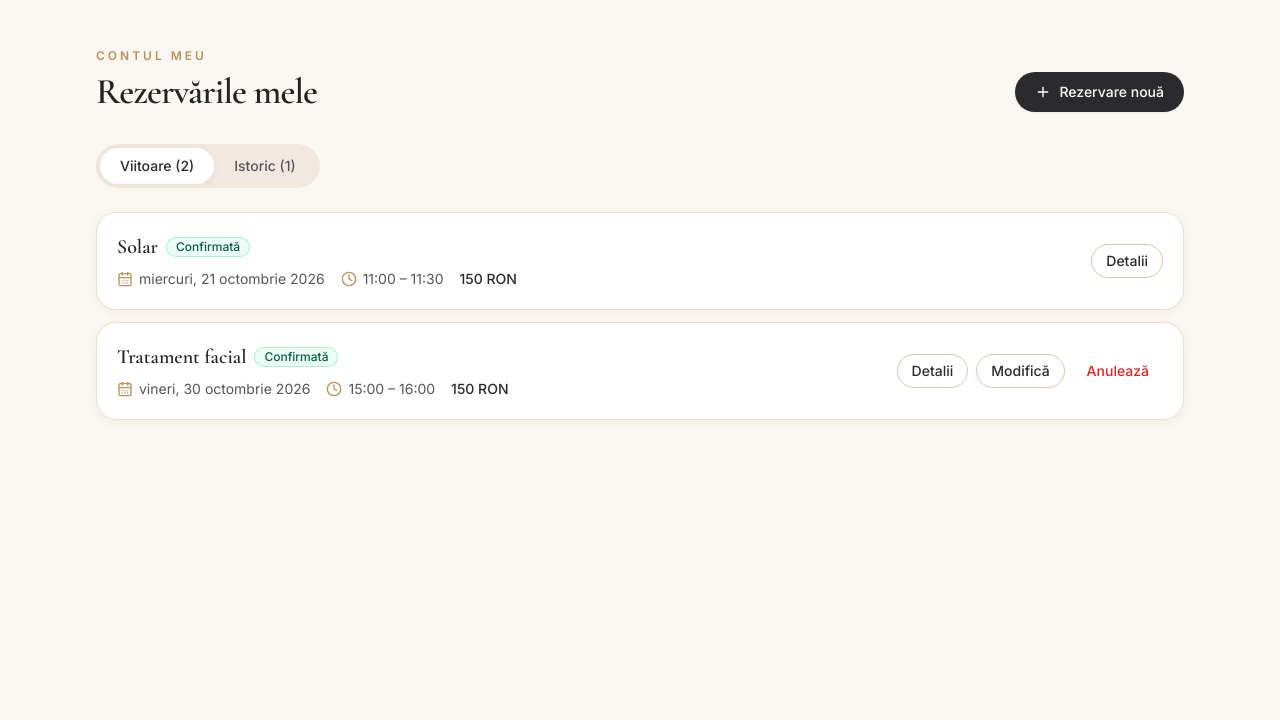
My reservations – cancellation › does nothing when the user chooses "Renunță"
Click the button "Anulează" at (1118, 371), box x1=1073 y1=354 x2=1163 y2=388
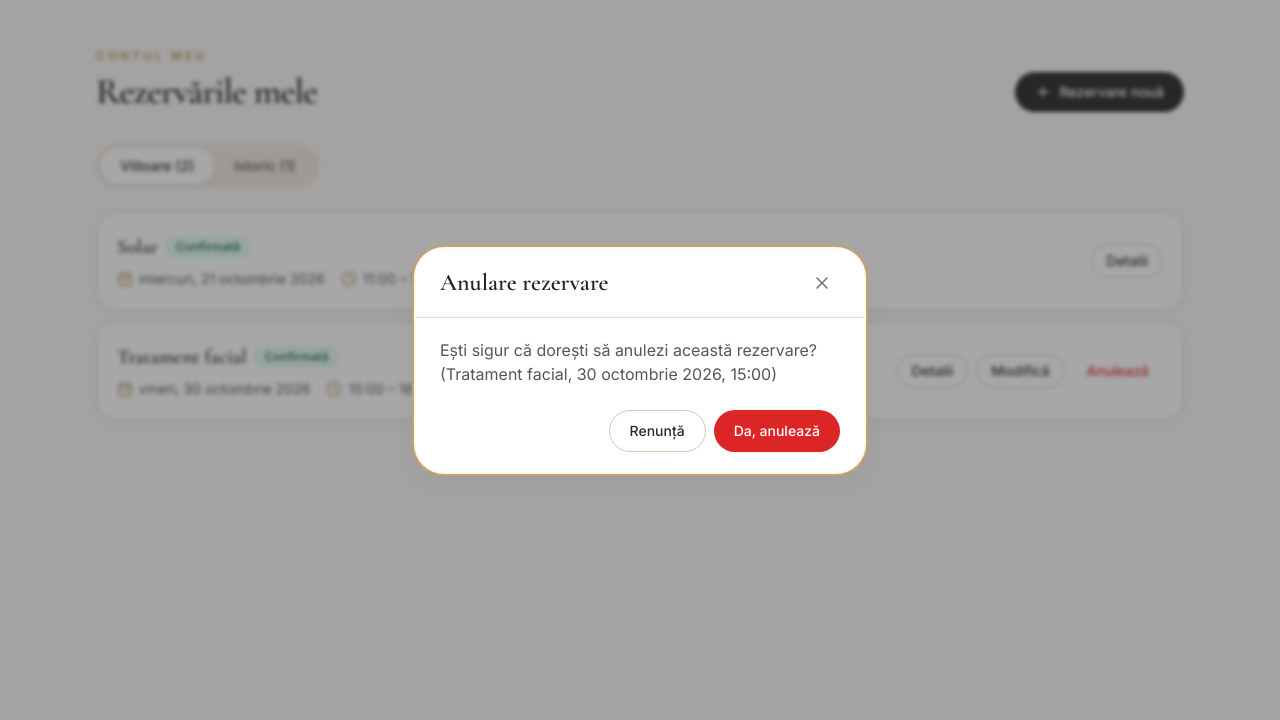
Click the button "Renunță" at (657, 430), box x1=609 y1=410 x2=706 y2=452
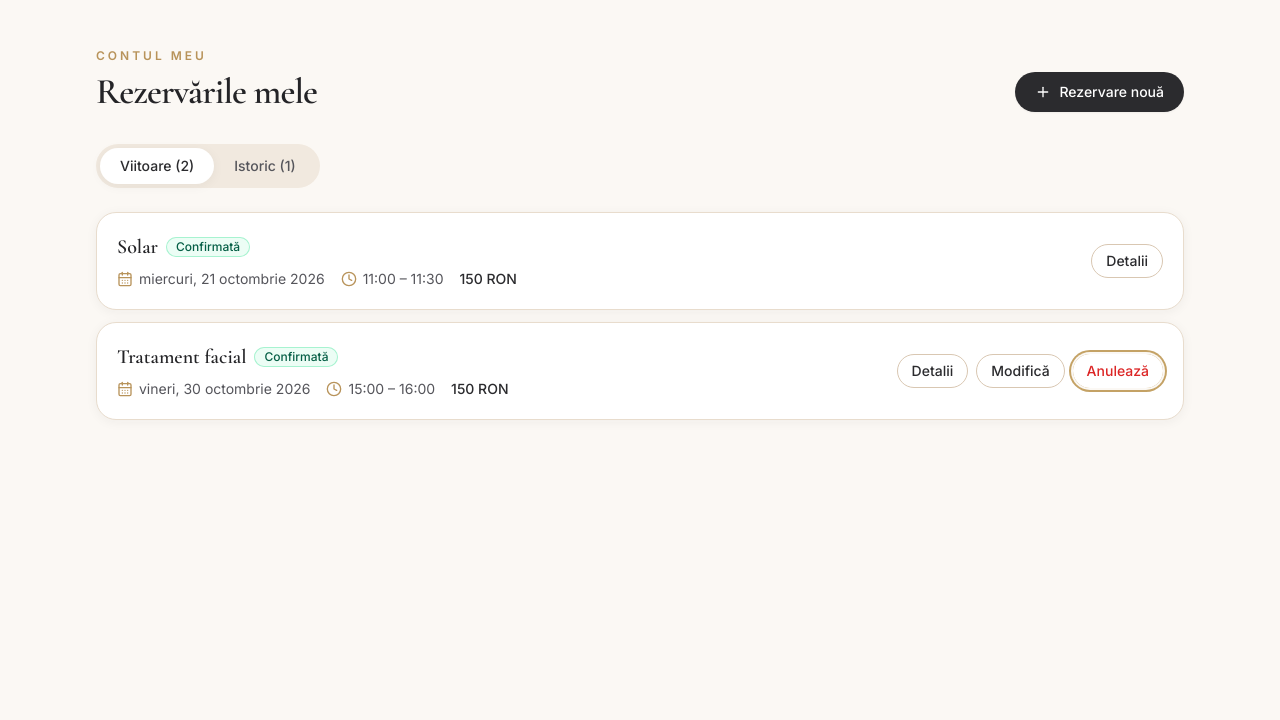
Check: the dialog is gone
